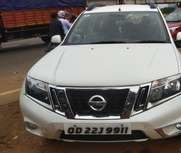OD22J9911: (65, 124, 131, 134)
